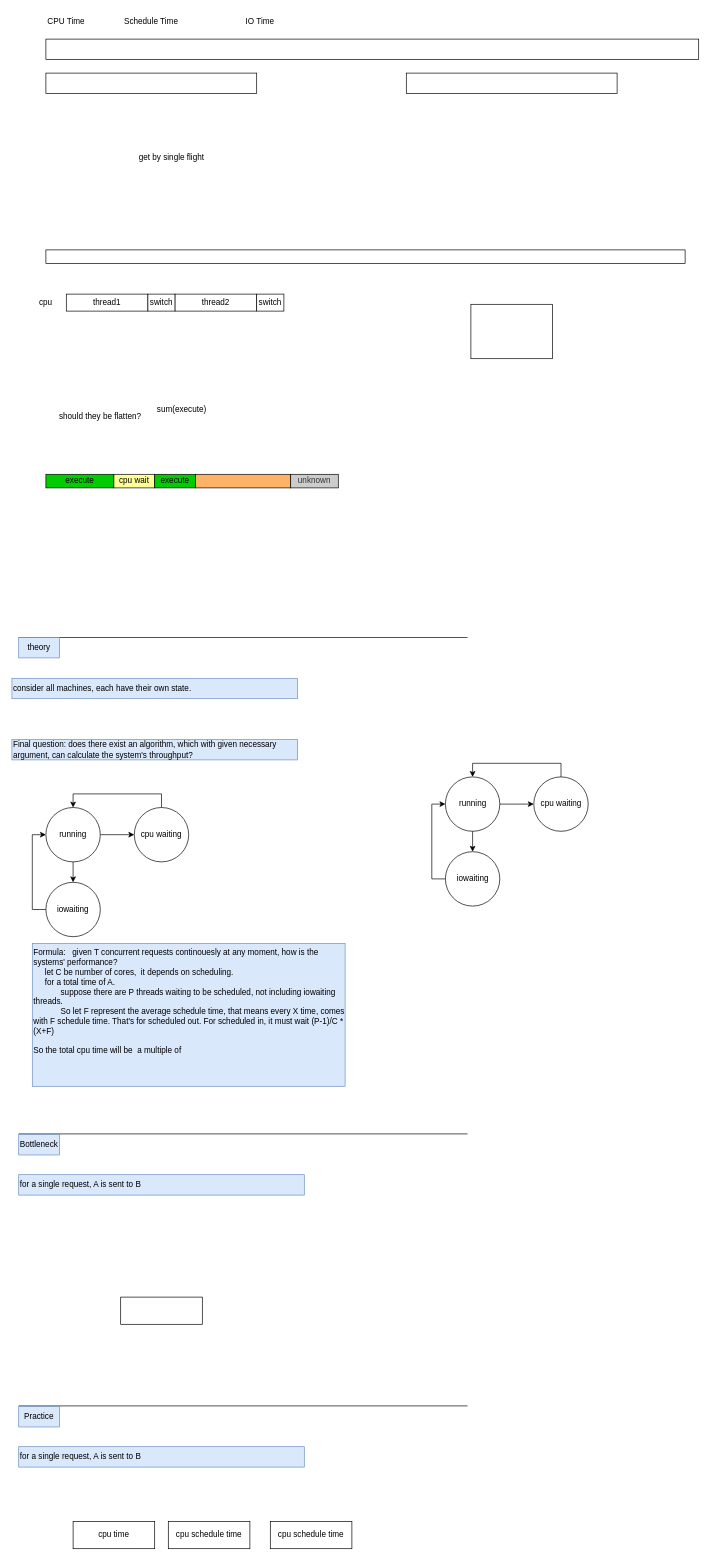
Some shapes in this 711 by 1561 pixel diagram are drawn without their labels. Here are the shapes that lost their labels. From the top down, the box of each, then its label:
(470, 304, 552, 359): { type:"execute" event:"" start: timestamp }
(195, 474, 291, 488): iowait
